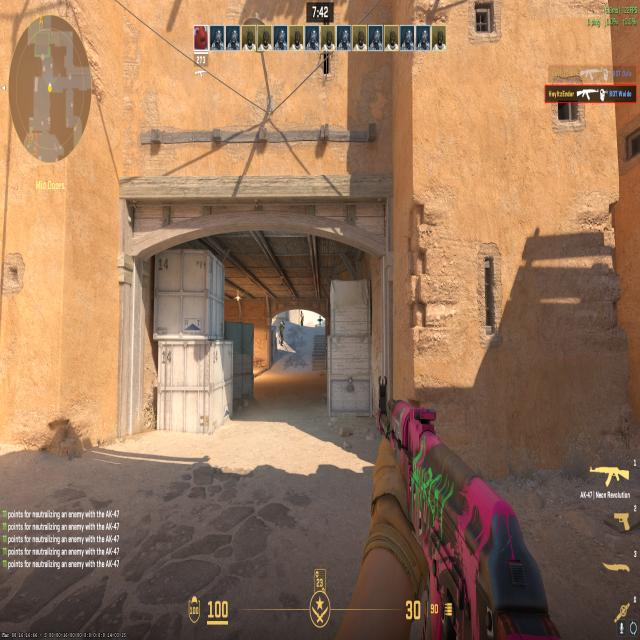ct: (278, 316, 284, 345)
t: (299, 308, 304, 326)
